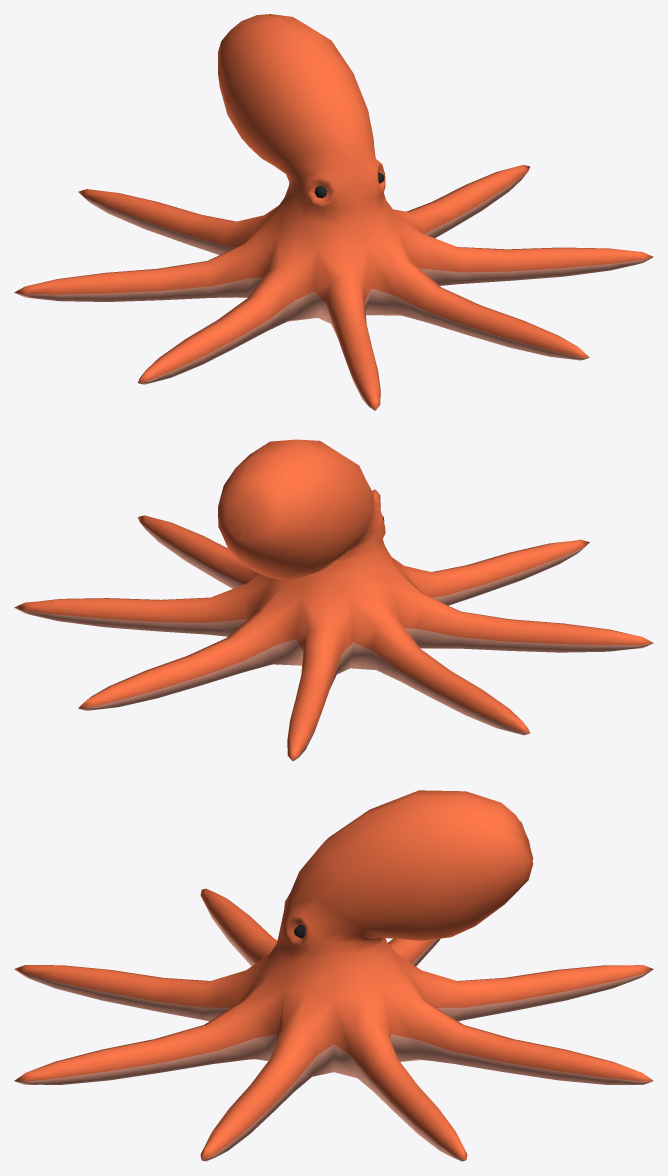
Rendered from Octopus_003.glb.
3 renders of one model, top to bottom at view 1: azimuth 30°, elevation 25°; view 2: azimuth 150°, elevation 25°; view 3: azimuth 270°, elevation 25°, orthographic. The views are drawn at different scales.
Parts seen in each view (by area): view 1: Octopus_003; view 2: Octopus_003; view 3: Octopus_003.
Boxes of the visible parts, x1,y1,x2,y2 form: Octopus_003: (14, 14, 653, 410); Octopus_003: (14, 439, 653, 761); Octopus_003: (14, 790, 653, 1161).
Bounding box in the file's own units: 2.65 × 1.16 × 2.65.
Materials: 1 (1 with a texture image).
